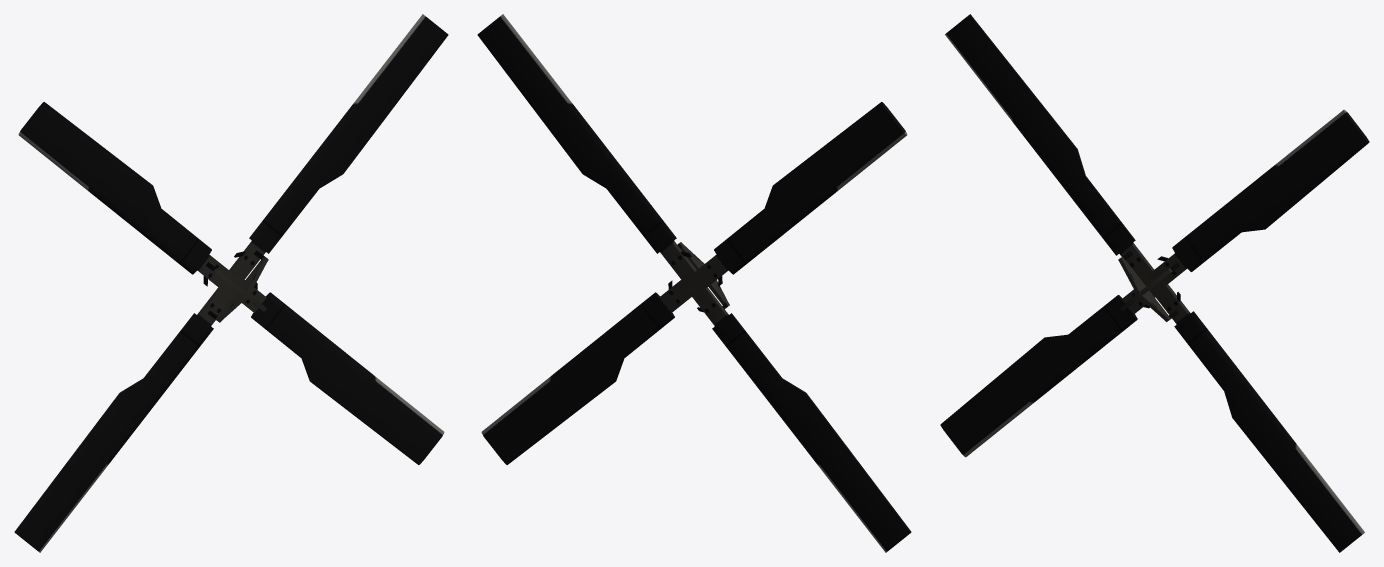
File: SM_CampHeli_TailRotor.fbx
3 views of the same model, side by side, from view 1: azimuth 30°, elevation 25°; view 2: azimuth 150°, elevation 25°; view 3: azimuth 330°, elevation 25° (orthographic).
Parts seen in each view (by area): view 1: SM_CampHeli_TailRotor; view 2: SM_CampHeli_TailRotor; view 3: SM_CampHeli_TailRotor.
Boxes of the visible parts, x1,y1,x2,y2 form: SM_CampHeli_TailRotor: [14, 14, 448, 552]; SM_CampHeli_TailRotor: [477, 14, 911, 552]; SM_CampHeli_TailRotor: [940, 14, 1369, 552].
Bounding box in the file's own units: 14.16 × 206 × 206.
1 material, 1 textured.
